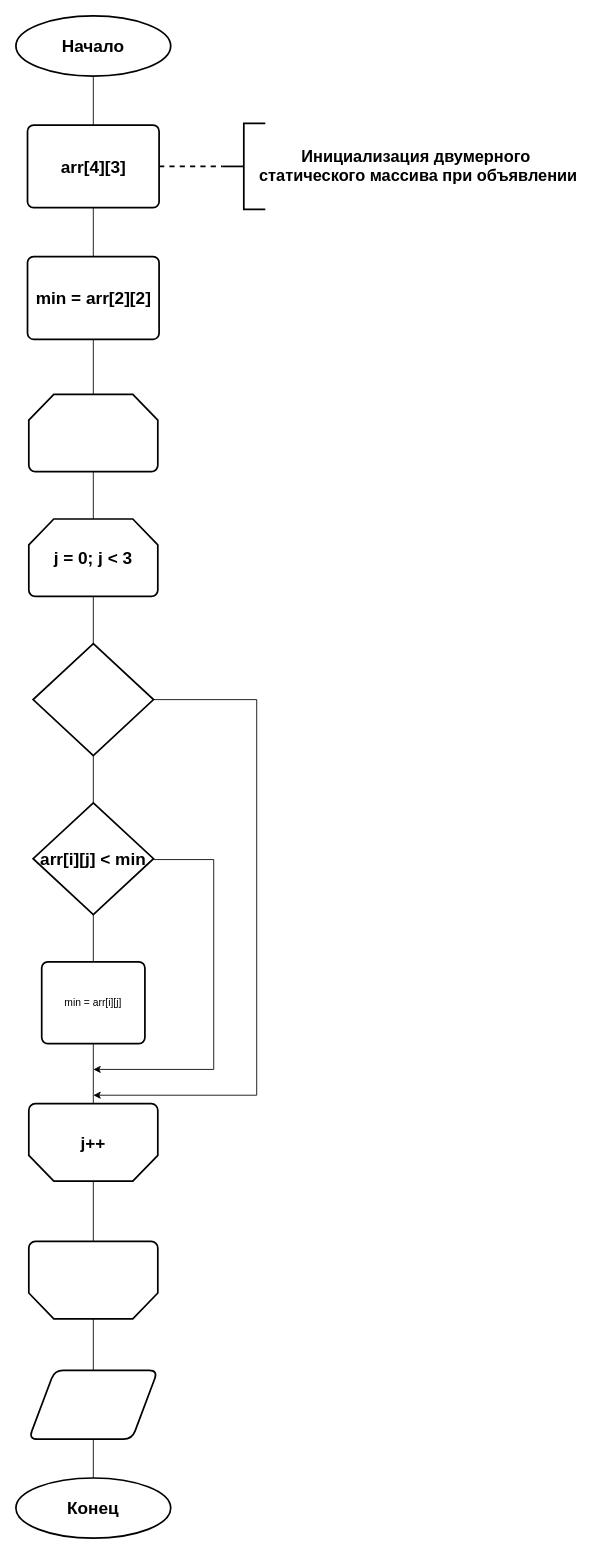
Some shapes in this 598 by 1554 pixel diagram are drawn without their labels. The shapes that lost their labels are listed below. From the top down, each one's box as (x1, y1, x2, y2) in pixels, then its label:
(28, 393, 158, 472): i = 0; i < 4
(32, 642, 154, 756): i < j
(28, 1240, 158, 1319): i++
(28, 1369, 158, 1440): Вывод min
